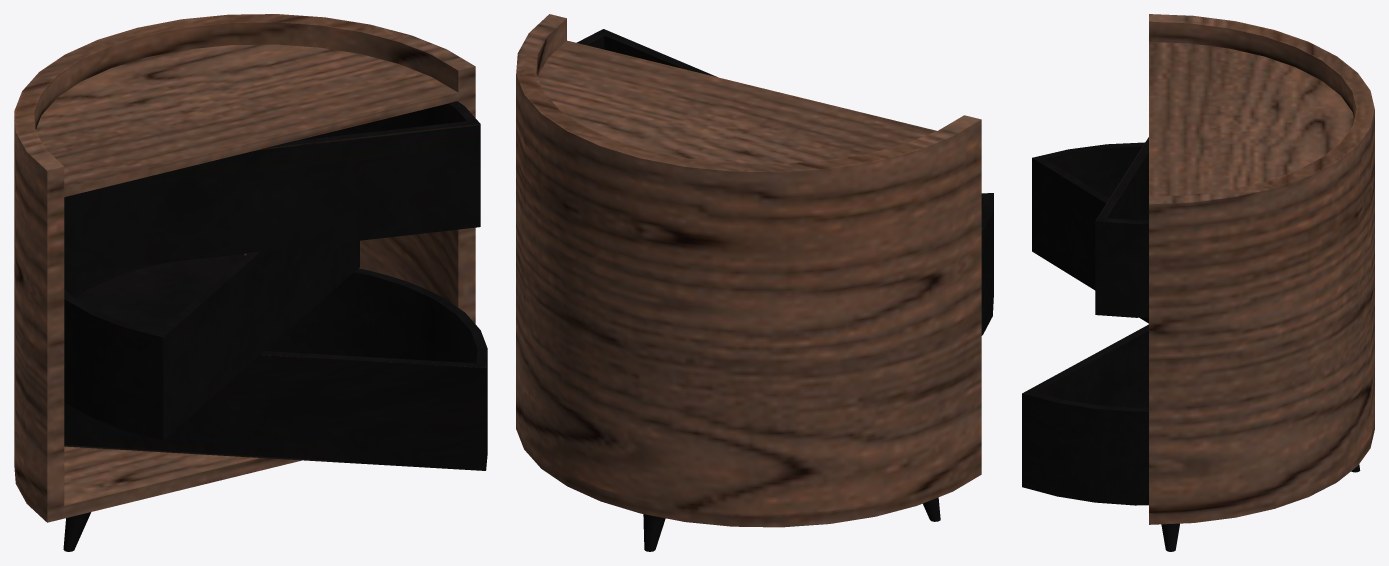
File: Coffe-Table.fbx
3 views of the same model, side by side, from view 1: azimuth 30°, elevation 25°; view 2: azimuth 150°, elevation 25°; view 3: azimuth 270°, elevation 25° (orthographic). The views are drawn at different scales.
Visible parts, largest first — view 1: Cylinder.017, Cylinder.018, Cylinder.020, Cylinder.019, Cylinder.012; view 2: Cylinder.017, Cylinder.019, Cylinder.020, Cylinder.012; view 3: Cylinder.017, Cylinder.018, Cylinder.019, Cylinder.020, Cylinder.012.
Boxes of the visible parts, box(x1,y1,x2,y2) form: Cylinder.017: box(14, 14, 475, 522); Cylinder.018: box(64, 268, 487, 470); Cylinder.020: box(64, 101, 480, 273); Cylinder.019: box(64, 240, 359, 440); Cylinder.012: box(63, 512, 91, 551); Cylinder.017: box(516, 14, 981, 527); Cylinder.019: box(981, 193, 993, 335); Cylinder.020: box(576, 29, 717, 77); Cylinder.012: box(643, 497, 940, 551); Cylinder.017: box(1149, 14, 1374, 524); Cylinder.018: box(1022, 324, 1148, 505); Cylinder.019: box(1032, 142, 1148, 323); Cylinder.020: box(1095, 137, 1148, 317); Cylinder.012: box(1161, 464, 1360, 551).
Size of the model in its own units: 74.45 by 65.76 by 58.31.
1 material, 1 textured.
